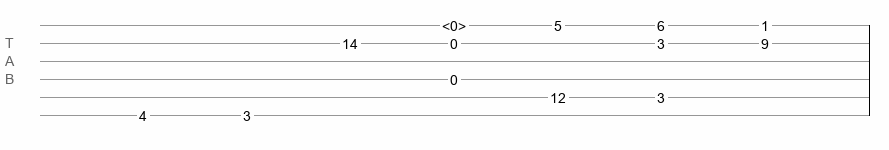0: (450, 36, 458, 46), (450, 72, 458, 82)
1: (761, 18, 769, 28)
12: (550, 90, 566, 100)
14: (342, 36, 358, 46)
3: (243, 108, 251, 118), (657, 36, 665, 46), (657, 90, 665, 100)
4: (139, 108, 147, 118)
5: (554, 18, 562, 28)
6: (657, 18, 665, 28)
9: (761, 36, 769, 46)
harmonic: (442, 18, 466, 28)
